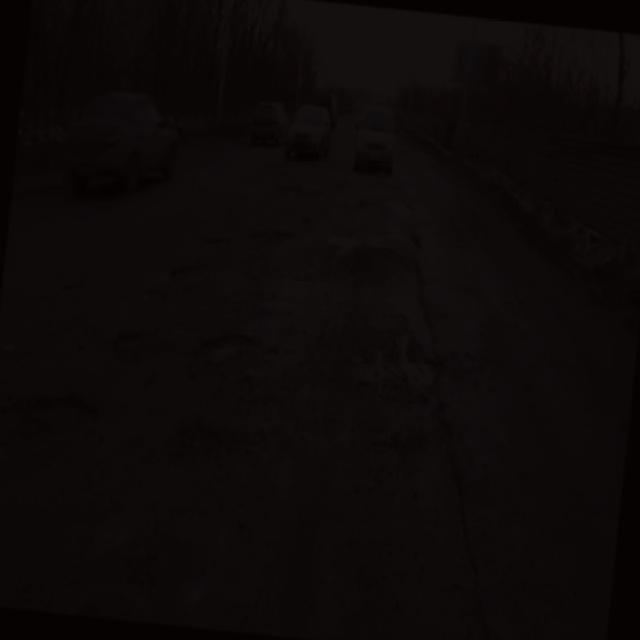Pothole: (396, 421, 500, 640), (0, 392, 109, 452), (332, 223, 432, 262), (387, 334, 456, 388), (108, 318, 174, 374), (202, 328, 278, 364), (158, 250, 224, 288), (208, 227, 306, 251)
